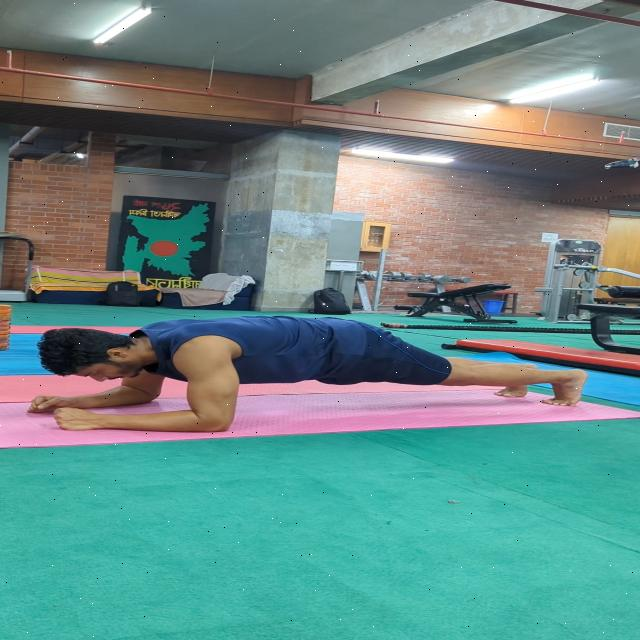Normal_Plunk: (0, 310, 587, 439)
